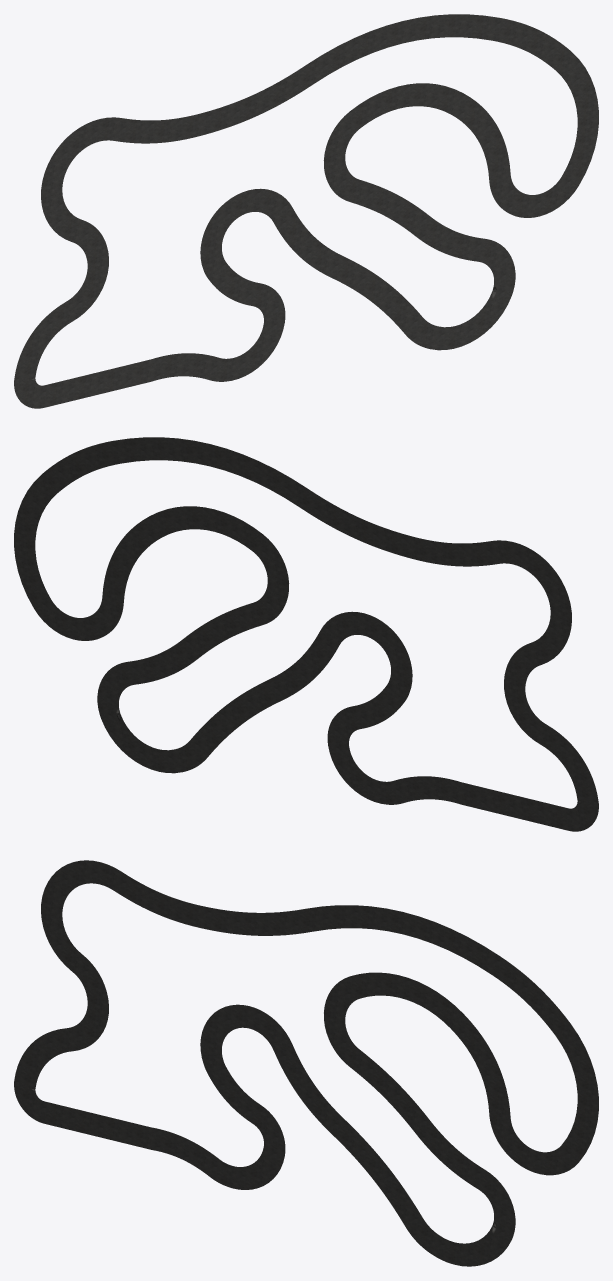
The model's file is track16_road.obj.
3 renders of one model, top to bottom at view 1: azimuth 30°, elevation 25°; view 2: azimuth 150°, elevation 25°; view 3: azimuth 330°, elevation 25°, orthographic.
Parts seen in each view (by area): view 1: road_0_curve_.003; view 2: road_0_curve_.003; view 3: road_0_curve_.003.
Part boxes in pixels (x1,y1,x2,y2): road_0_curve_.003: (14, 14, 598, 408); road_0_curve_.003: (14, 437, 598, 831); road_0_curve_.003: (14, 860, 598, 1266).
Bounding box in the file's own units: 44.61 × 24.8 × 0.
1 material, 1 textured.
